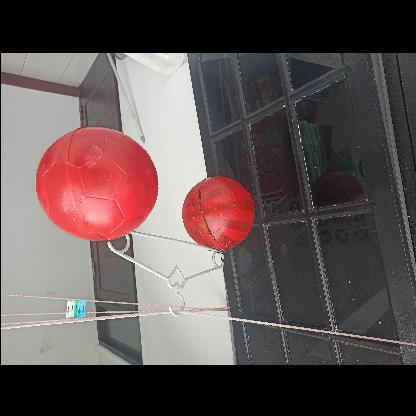red_ball: (37, 127, 156, 246), (183, 177, 255, 249)
